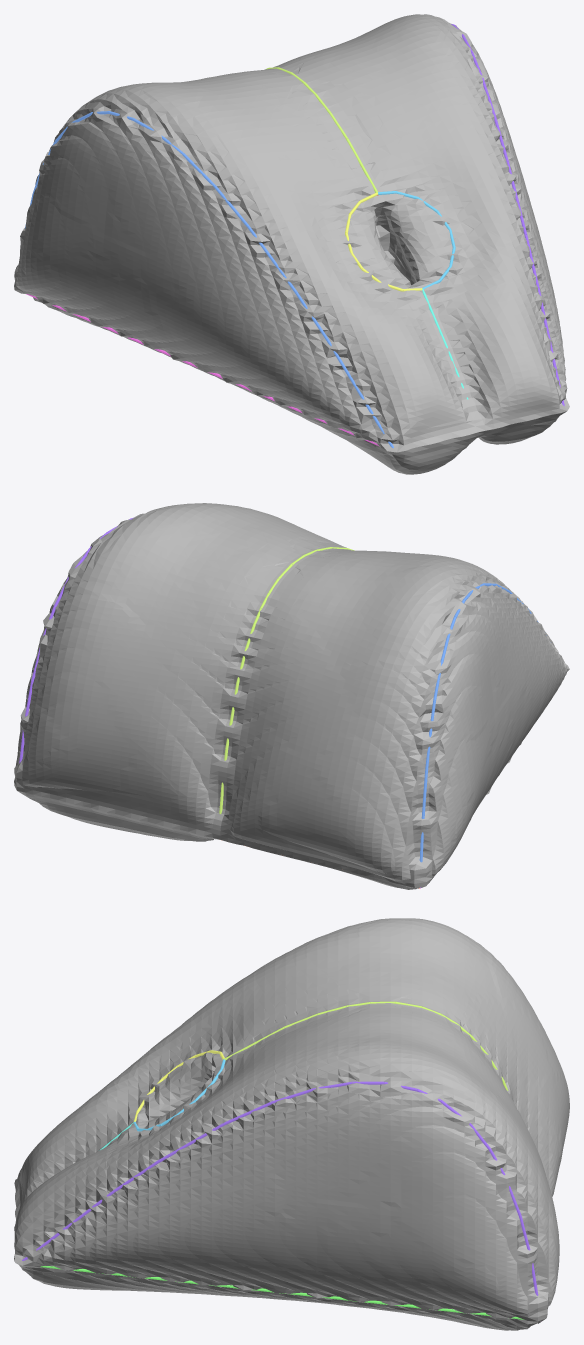
The model's file is onshape_simple_mouse.gltf.
The picture shows the model from 3 angles, top to bottom: view 1: azimuth 30°, elevation 25°; view 2: azimuth 150°, elevation 25°; view 3: azimuth 270°, elevation 25°; orthographic projection.
Size of the model in its own units: 0.6744 by 0.4143 by 0.7535.
